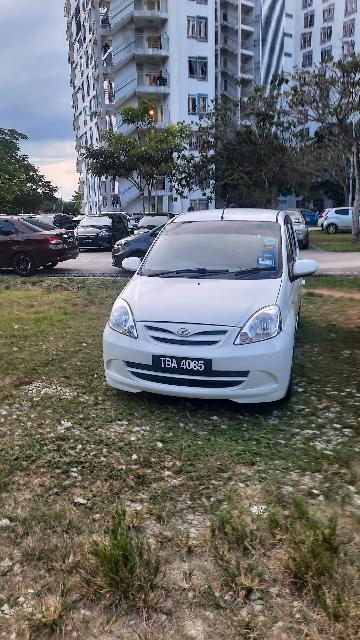License_Plate: (146, 352, 222, 381)
car: (102, 209, 321, 409), (1, 212, 79, 281)
